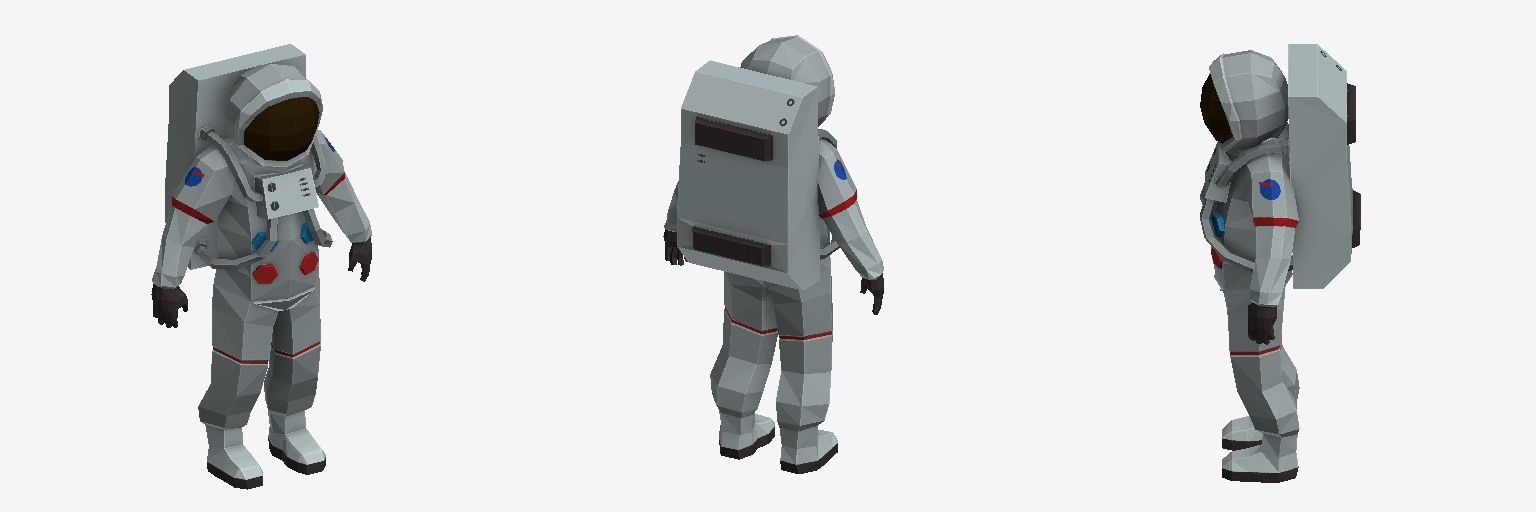
3 views of the same model, side by side, from view 1: azimuth 30°, elevation 25°; view 2: azimuth 150°, elevation 25°; view 3: azimuth 270°, elevation 25° (orthographic).
Visible parts, largest first — view 1: Astronaut_mesh; view 2: Astronaut_mesh; view 3: Astronaut_mesh.
Boxes of the visible parts, box(x1,y1,x2,y2) form: Astronaut_mesh: box(151, 44, 371, 489); Astronaut_mesh: box(663, 35, 883, 473); Astronaut_mesh: box(1200, 44, 1360, 482).
Size of the model in its own units: 2.24 by 4.02 by 1.45.
1 materials, 1 textured.